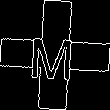M_N: (30, 28, 80, 82)
